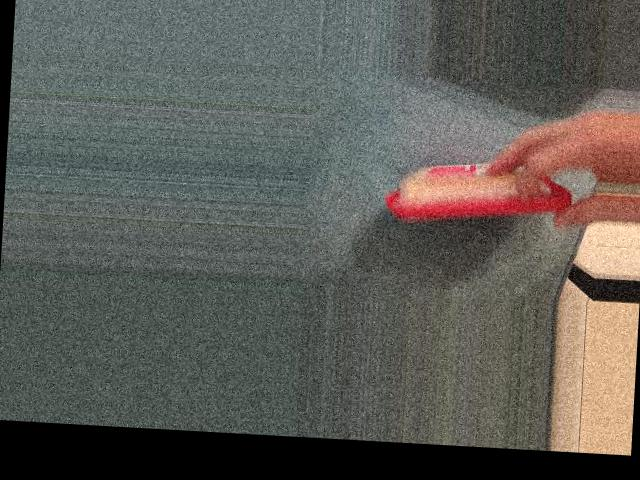cheese: (386, 148, 575, 228)
